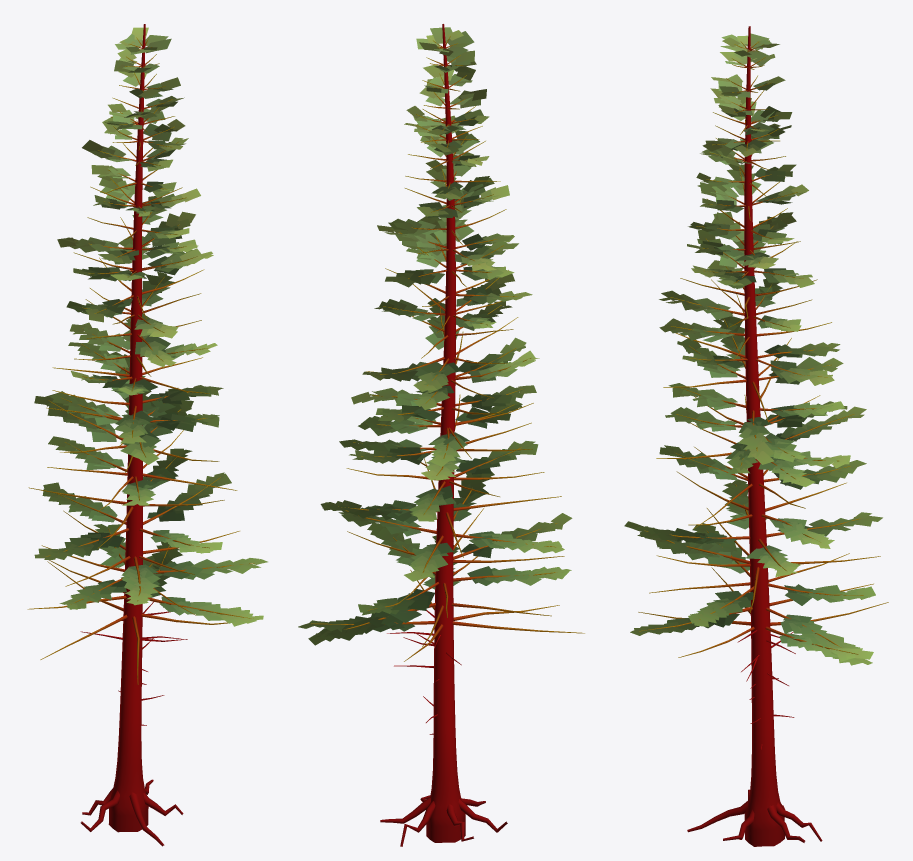
File: fir_b.glb
3 renders of one model, left to right at view 1: azimuth 30°, elevation 25°; view 2: azimuth 150°, elevation 25°; view 3: azimuth 270°, elevation 25°, orthographic.
Visible parts, largest first — view 1: LOD0; view 2: LOD0; view 3: LOD0.
Boxes of the visible parts, bbox=[...] form: LOD0: bbox=[27, 24, 267, 846]; LOD0: bbox=[298, 24, 584, 846]; LOD0: bbox=[624, 26, 888, 846].
Size of what is drawn, in the model's own units: 6.11 by 19.73 by 5.96.
